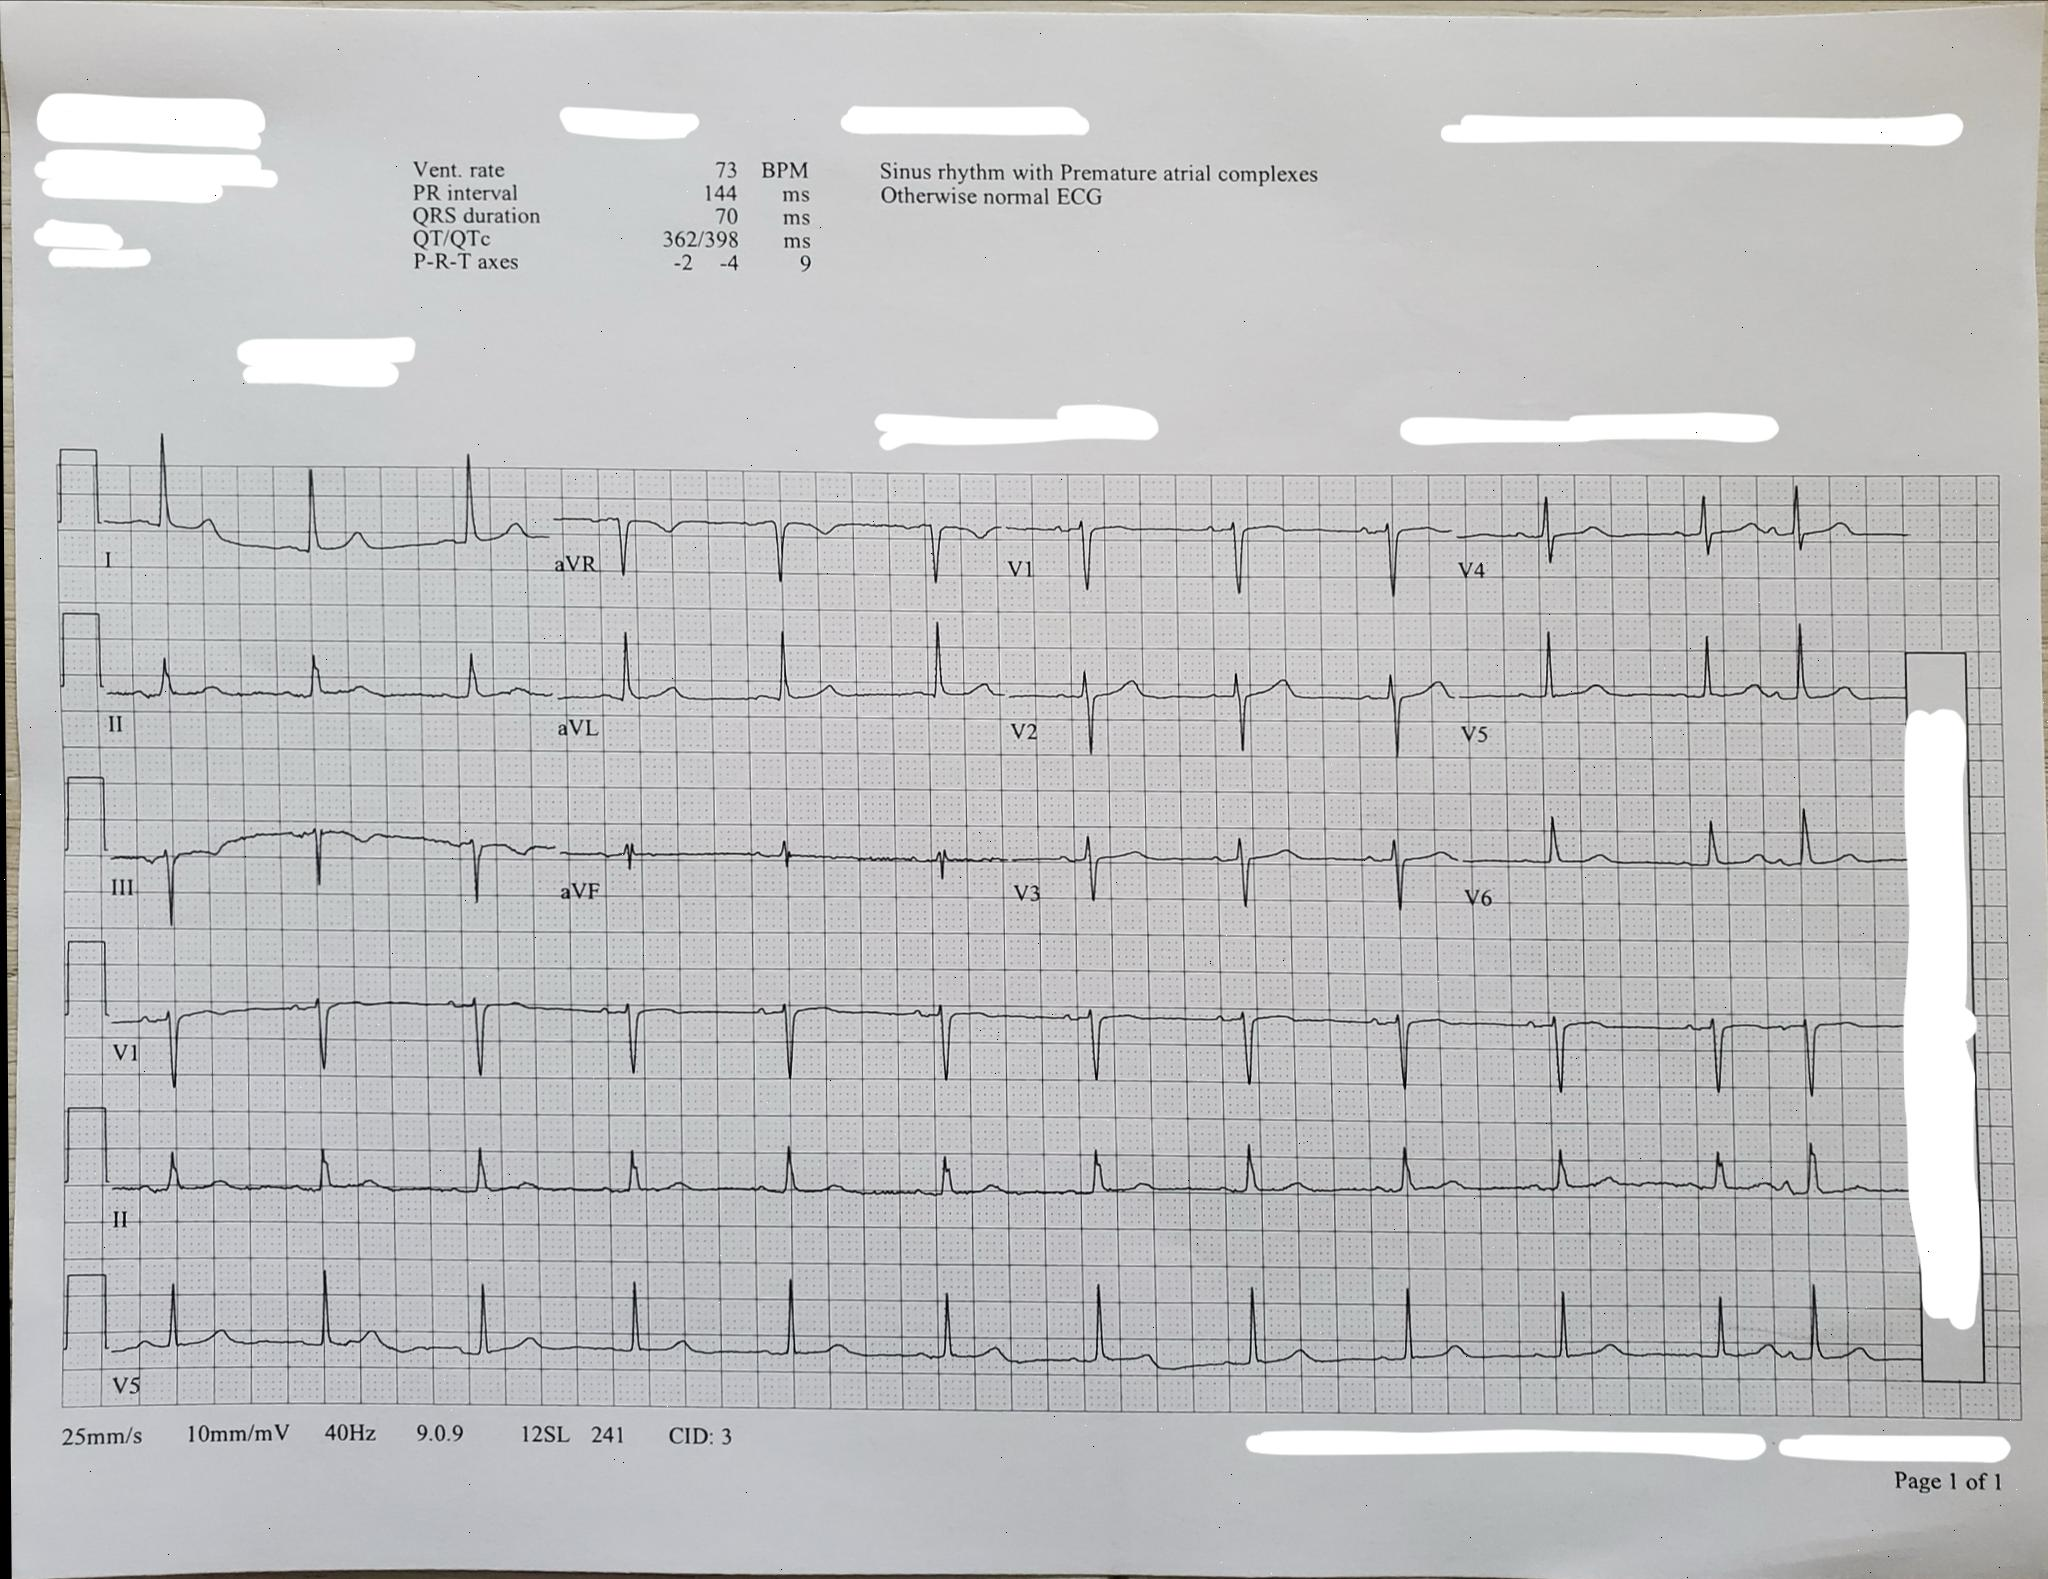Lead_I: (87, 435, 537, 593)
Lead_II: (94, 609, 542, 767)
Lead_III: (95, 791, 543, 939)
Lead_II_ext: (102, 1126, 1888, 1244)
Lead_V1: (1001, 467, 1454, 613), (111, 968, 545, 1112)
Lead_V2: (1006, 621, 1460, 771)
Lead_V3: (1001, 789, 1460, 955)
Lead_V4: (1452, 477, 1931, 607)
Lead_V5: (1459, 609, 1893, 757), (103, 1270, 552, 1412)
Lead_V6: (1456, 789, 1894, 939)
Lead_aVF: (546, 793, 989, 963)
Lead_aVL: (545, 611, 990, 777)
Lead_aVR: (544, 463, 998, 599)
